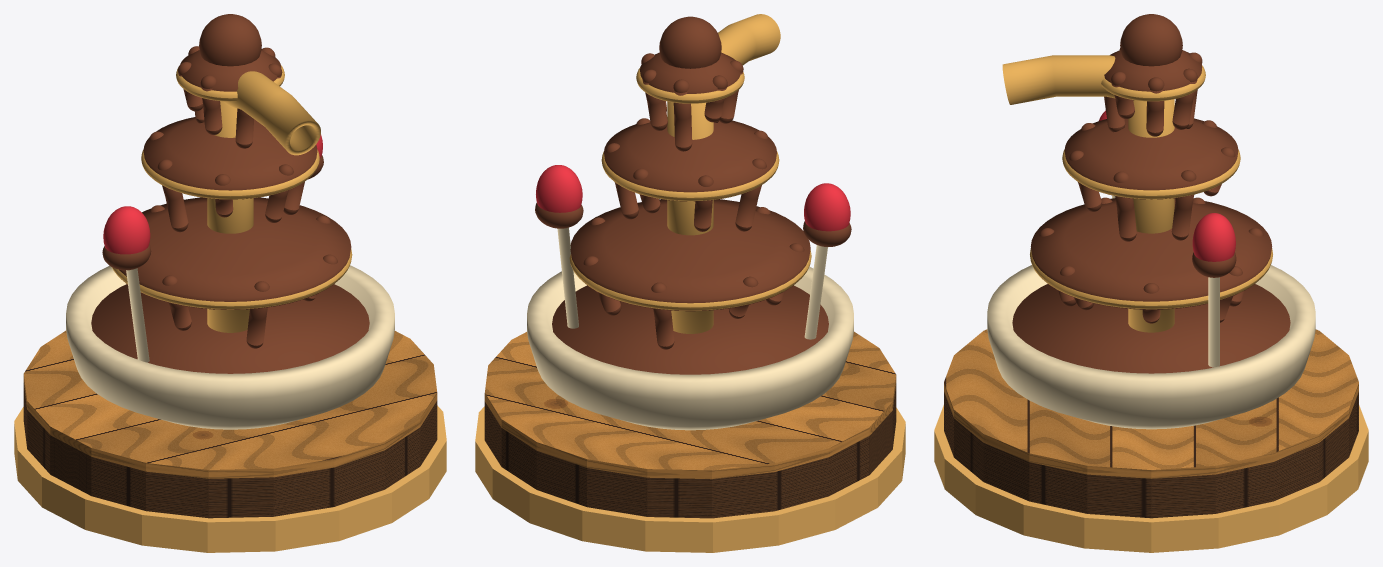
File: Fondue.glb
The picture shows the model from 3 angles, left to right: view 1: azimuth 30°, elevation 25°; view 2: azimuth 150°, elevation 25°; view 3: azimuth 270°, elevation 25°; orthographic projection.
Visible parts, largest first — view 1: Fondue Head, pedestal, rim; view 2: Fondue Head, pedestal, rim; view 3: Fondue Head, pedestal, rim.
Boxes of the visible parts, x1,y1,x2,y2 form: Fondue Head: (66, 14, 394, 429); pedestal: (23, 330, 437, 518); rim: (14, 405, 446, 552); Fondue Head: (527, 14, 853, 430); pedestal: (484, 331, 896, 518); rim: (475, 406, 905, 552); Fondue Head: (987, 14, 1315, 429); pedestal: (944, 329, 1358, 518); rim: (934, 405, 1368, 552).
Size of the model in its own units: 0.9 by 1.01 by 0.9.
Materials: 7 (2 with a texture image).
